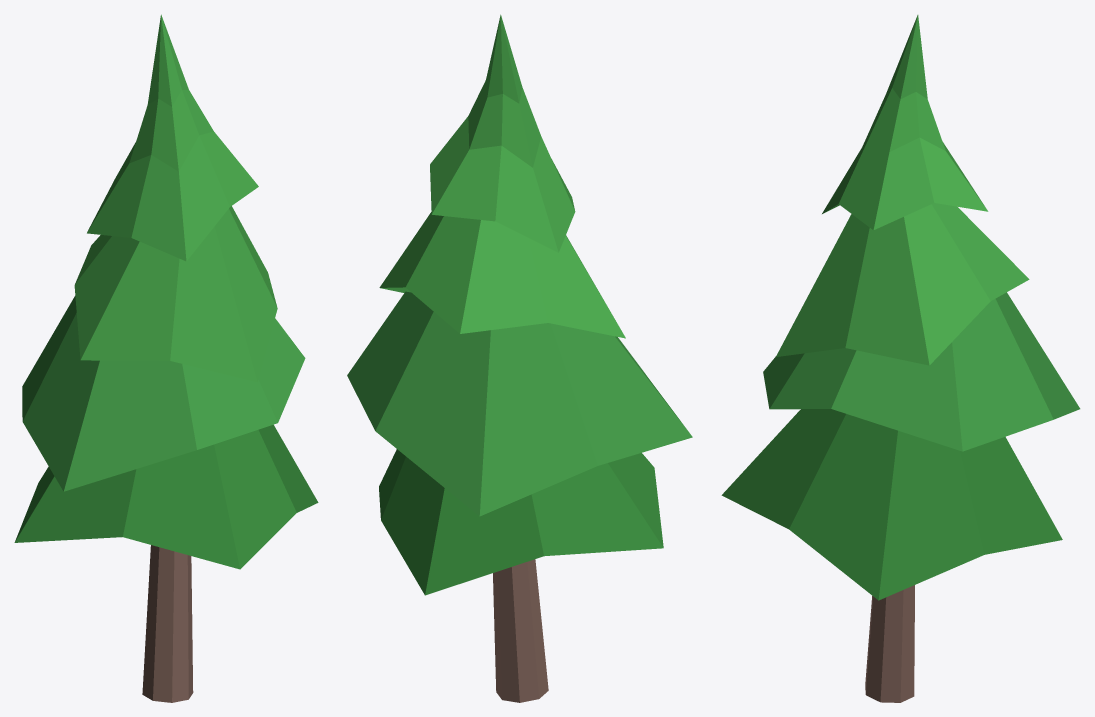
Rendered from Tree_059.glb.
3 renders of one model, left to right at view 1: azimuth 30°, elevation 25°; view 2: azimuth 150°, elevation 25°; view 3: azimuth 270°, elevation 25°, orthographic. The views are drawn at different scales.
Parts seen in each view (by area): view 1: Tree_059; view 2: Tree_059; view 3: Tree_059.
Boxes of the visible parts, x1,y1,x2,y2 form: Tree_059: (14, 14, 318, 702); Tree_059: (347, 14, 692, 702); Tree_059: (721, 15, 1080, 702).
Size of the model in its own units: 2.9 by 6.38 by 3.04.
1 material, 1 textured.
